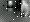person: (21, 1, 30, 18), (8, 3, 14, 12)
